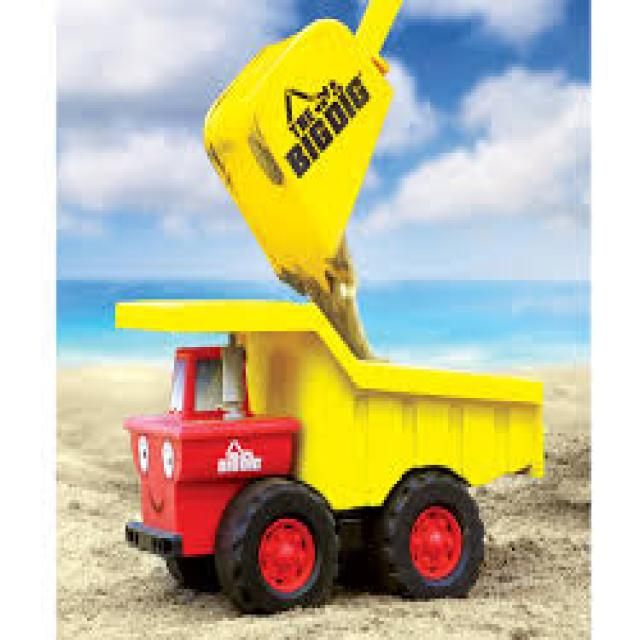dump_truck: (103, 272, 554, 607)
